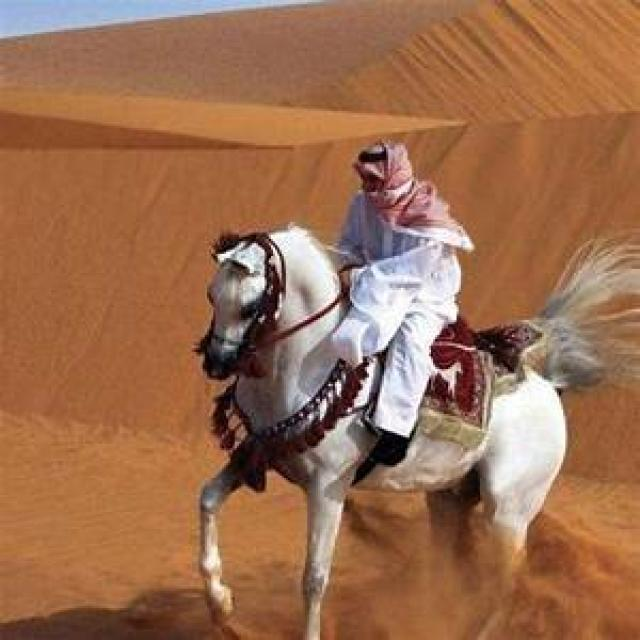horse: (192, 222, 638, 638)
